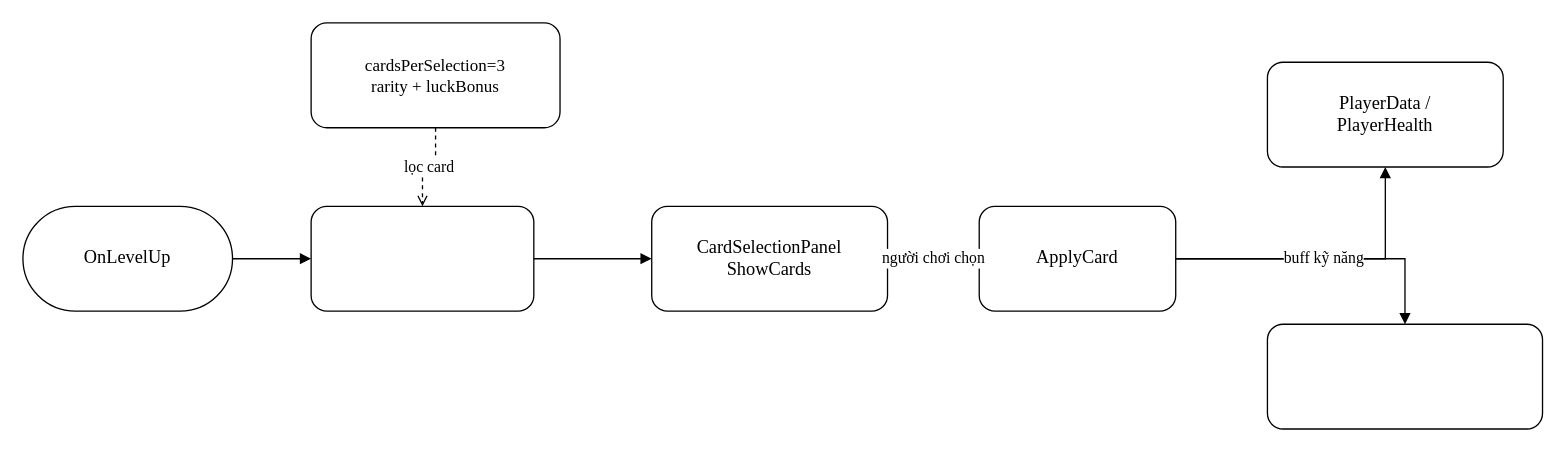
Image size: 1565x452. Some labels were removed from this diagram. The box of each missing label's shape, as (x1, y1, x2, y2) in pixels:
BuffCardManager GetRandomCards: (310, 205, 534, 311)
Spirit / OrbitingBall / combat modifiers: (1266, 323, 1543, 429)
